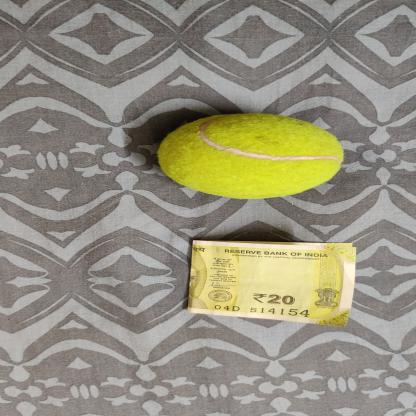New20Front: (185, 240, 360, 328)
